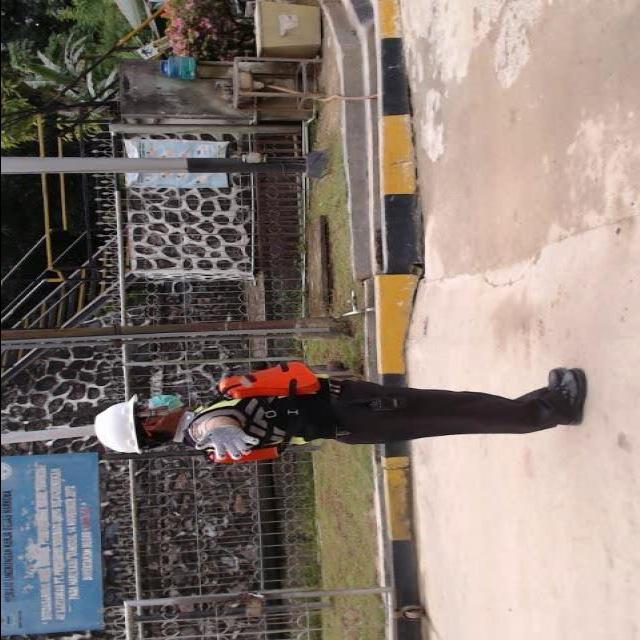helmet: (88, 390, 148, 464)
